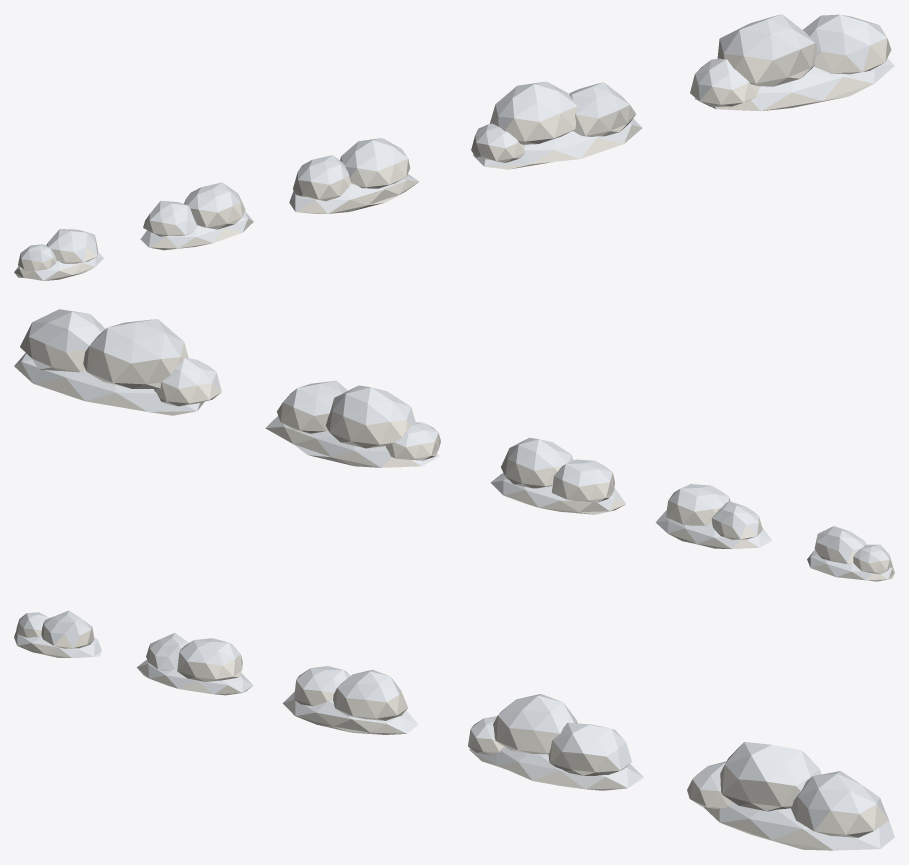
File: FMS_Garden_Demo_Clouds.fbx
The picture shows the model from 3 angles, top to bottom: view 1: azimuth 30°, elevation 25°; view 2: azimuth 150°, elevation 25°; view 3: azimuth 330°, elevation 25°; orthographic projection.
Visible parts, largest first — view 1: Cloud_A, Cloud_B, Cloud_C, Cloud_D, Cloud_E; view 2: Cloud_A, Cloud_B, Cloud_C, Cloud_D, Cloud_E; view 3: Cloud_A, Cloud_B, Cloud_C, Cloud_D, Cloud_E.
Part boxes in pixels (box(x1,y1,x2,y2)): Cloud_A: box(690, 14, 894, 111); Cloud_B: box(471, 81, 642, 169); Cloud_C: box(289, 138, 419, 213); Cloud_D: box(140, 182, 253, 250); Cloud_E: box(14, 229, 103, 280); Cloud_A: box(14, 309, 221, 415); Cloud_B: box(265, 380, 440, 467); Cloud_C: box(490, 437, 625, 514); Cloud_D: box(655, 484, 771, 549); Cloud_E: box(807, 526, 894, 581); Cloud_A: box(687, 742, 894, 850); Cloud_B: box(468, 694, 643, 790); Cloud_C: box(282, 666, 418, 734); Cloud_D: box(137, 633, 253, 695); Cloud_E: box(14, 610, 101, 657).
Size of the model in its own units: 50.68 by 4.23 by 5.23.
